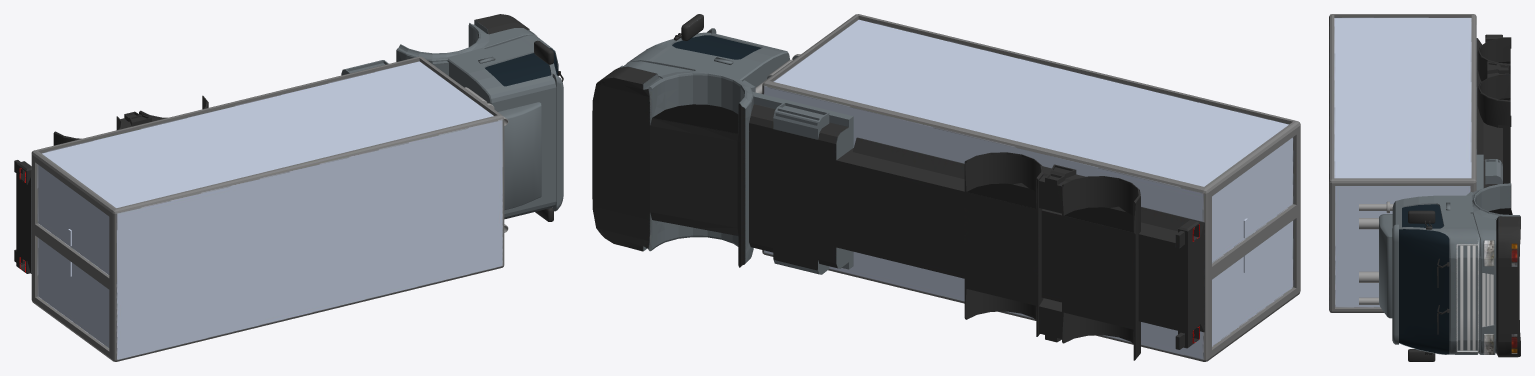
The model's file is truck_chassis_lightgrey.obj.
The picture shows the model from 3 angles, left to right: view 1: azimuth 30°, elevation 25°; view 2: azimuth 150°, elevation 25°; view 3: azimuth 270°, elevation 25°; orthographic projection. The views are drawn at different scales.
Visible parts, largest first — view 1: Truck_Chassis_0409; view 2: Truck_Chassis_0409; view 3: Truck_Chassis_0409.
Part boxes in pixels (box(x1,y1,x2,y2)): Truck_Chassis_0409: box(14, 14, 563, 361); Truck_Chassis_0409: box(592, 14, 1300, 361); Truck_Chassis_0409: box(1329, 14, 1520, 361).
Size of the model in its own units: 11.48 by 3.64 by 4.21.
Materials: 3 (3 with a texture image).
